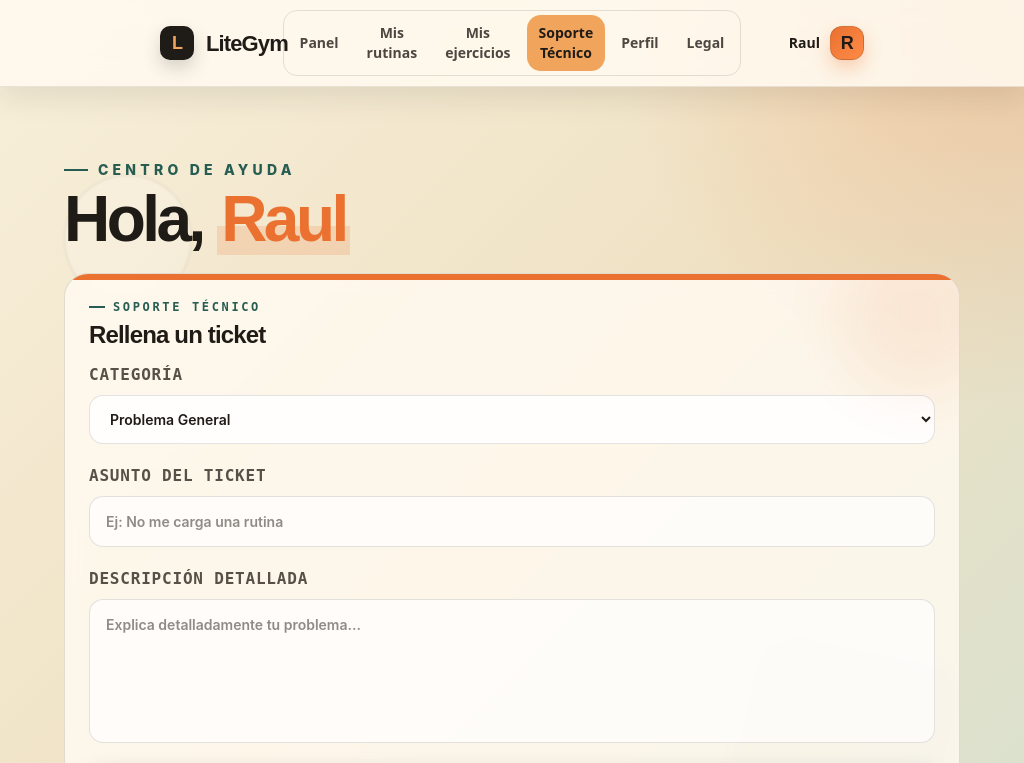
SupportPage › envía el ticket correctamente, muestra mensaje de éxito y resetea el formulario
Select "Comportamiento del Asistente IA" in the dropdown at point(512, 420), box [89,395,935,444]
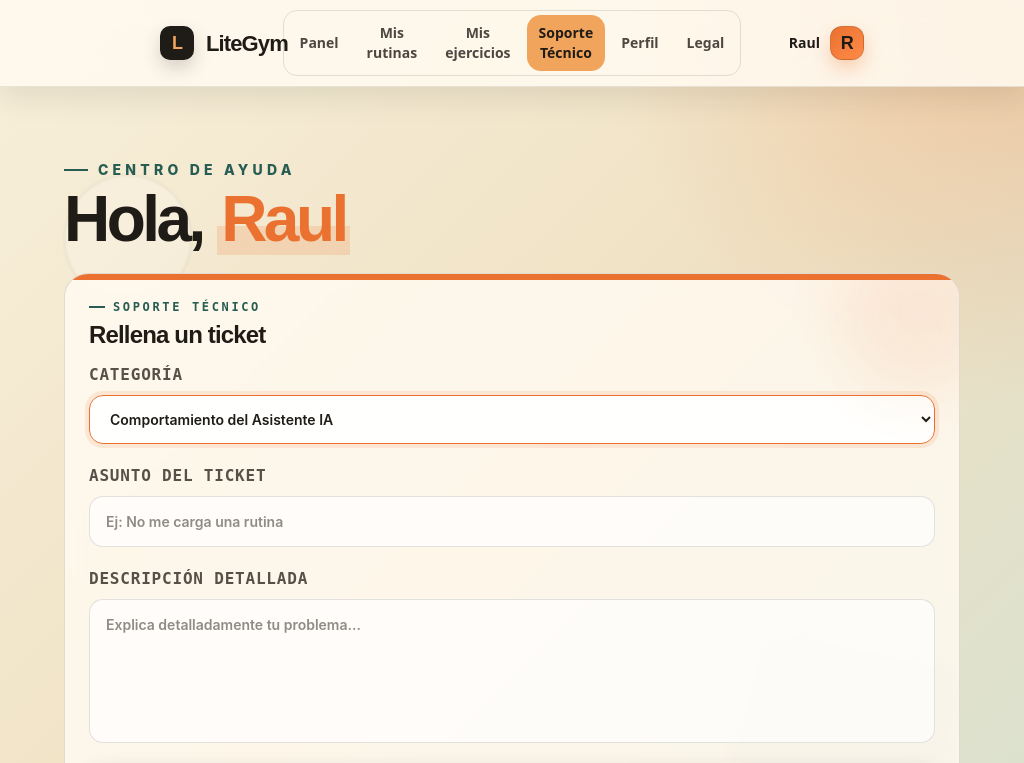
Type "La IA me habla en binario" into the field with placeholder "Ej: No me carga una rutina" at point(512, 522), box [89,496,935,547]
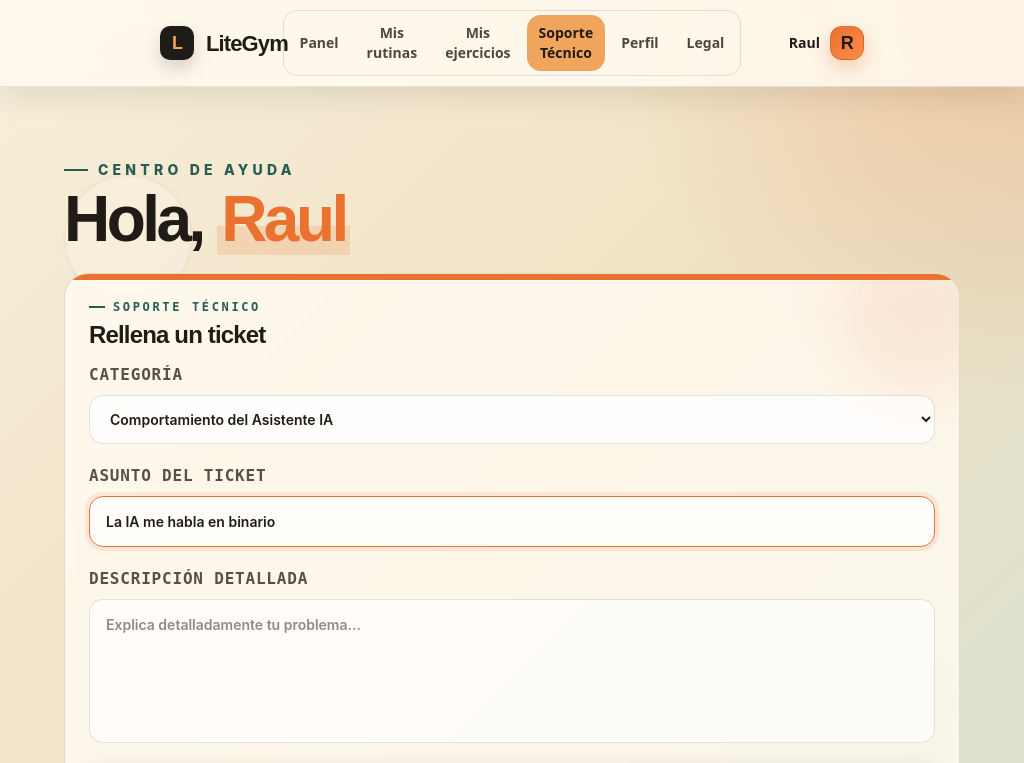
Type "No entiendo nada de lo que dice el asistente." into the text box with placeholder "Explica detalladamente tu problema..." at point(512, 671), box [89,599,935,743]
(page scrolled)
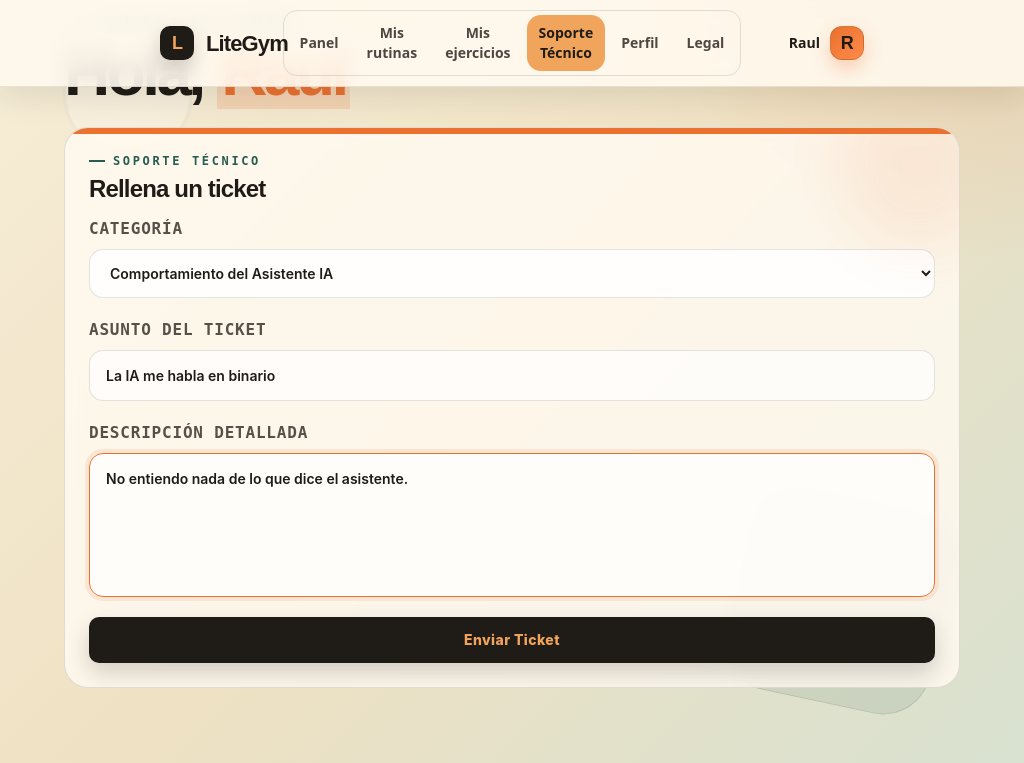
Click the button "Enviar Ticket" at point(512, 640), box [89,617,935,663]
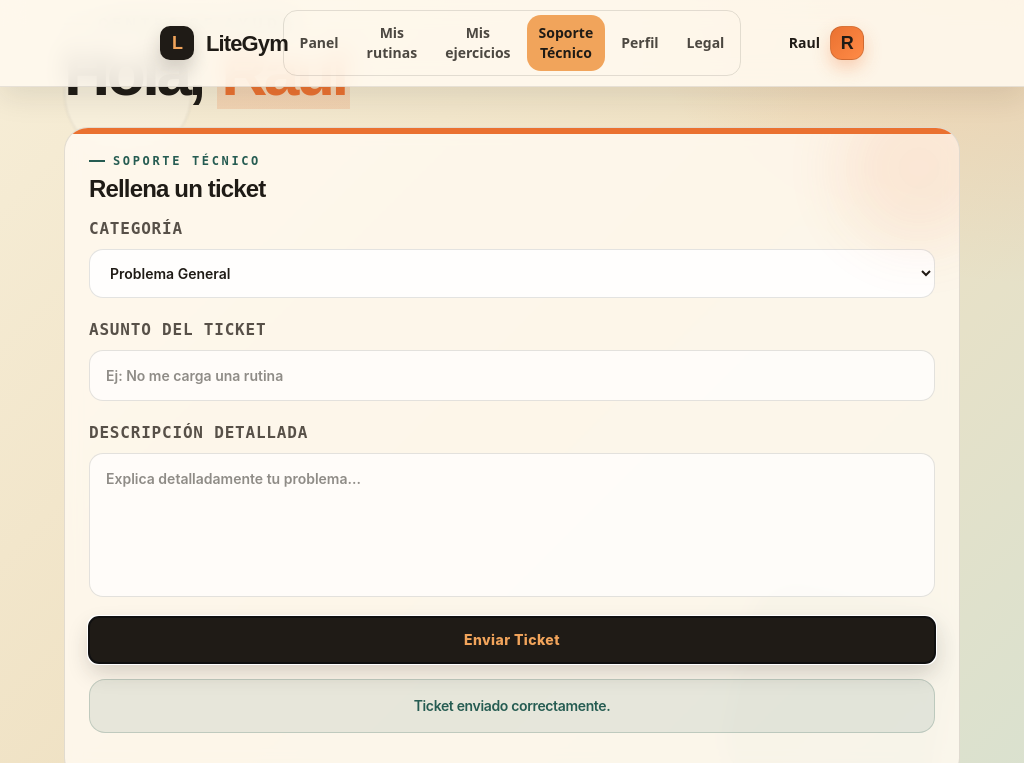
Expected: the text "Ticket enviado correctamente." is shown, [89,679,935,733]
Expected: the field with placeholder "Ej: No me carga una rutina" is empty, [89,350,935,401]
Expected: the text box with placeholder "Explica detalladamente tu problema..." is empty, [89,453,935,597]
